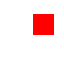square: (33, 14, 53, 34)
